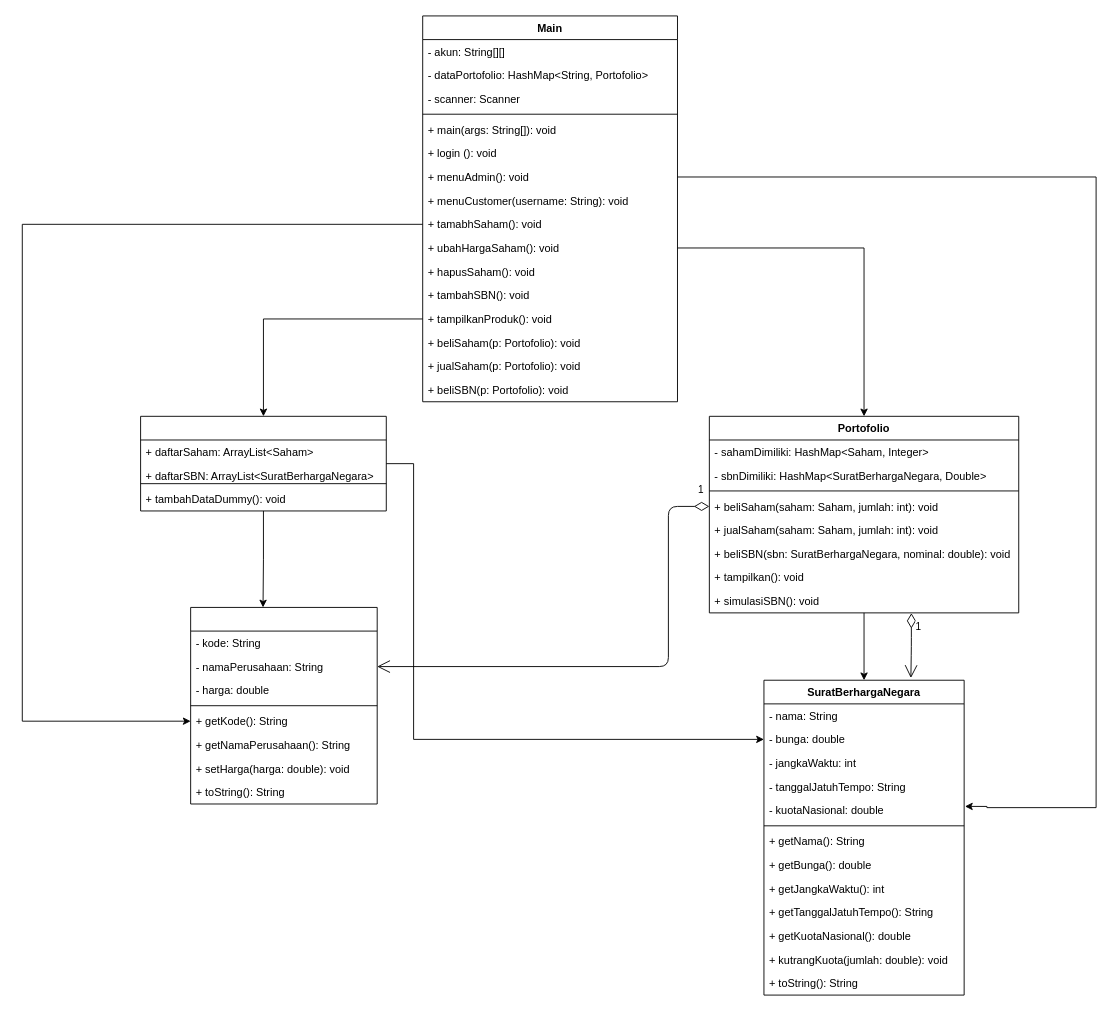
This 1119x1014 diagram has some shape labels left out. The shapes that lost their labels are listed below. From the top down, each one's box as (x1, y1, x2, y2) in pixels, then its label:
(140, 415, 386, 511): DataStore
(190, 607, 377, 804): Saham
